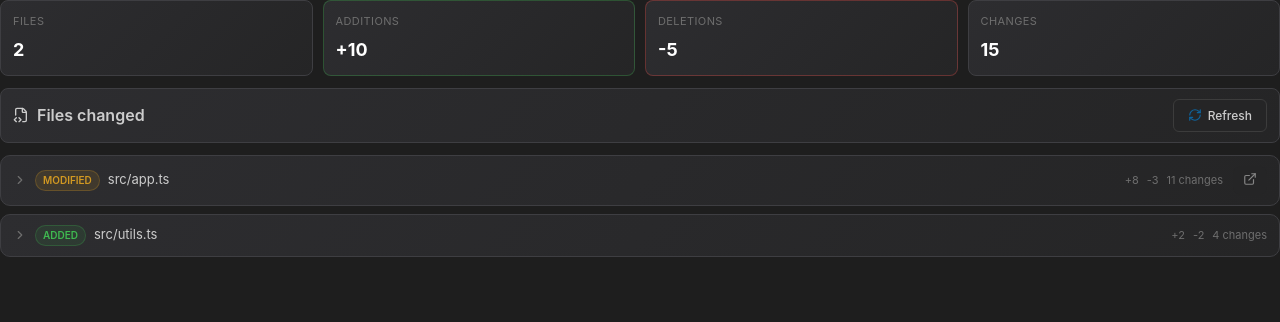
PRFilesChangedPanel › shows refresh indicator when loading with existing data
The width and height of the screenshot is (1280, 322).
expect the text "src/app.ts" is shown: met, box [108, 170, 169, 190]
# Click refresh to trigger loading with existing data
Click the button "Refresh": (1220, 115) [1173, 98, 1267, 132]
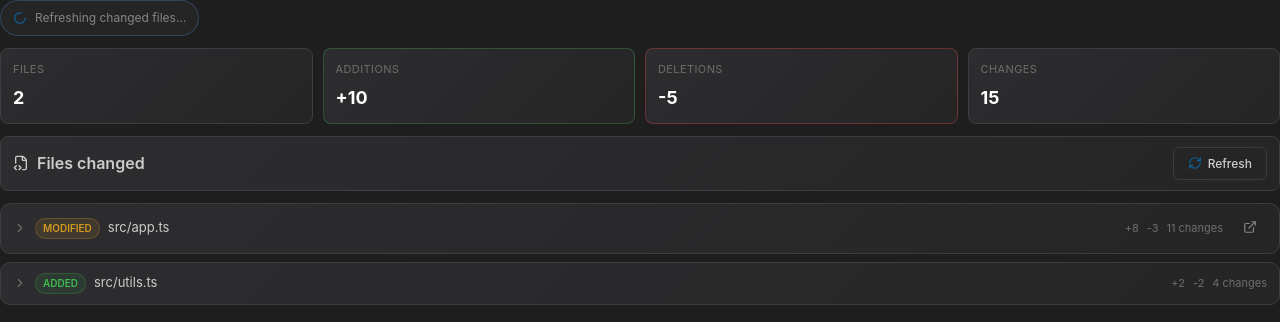
expect the text "Refreshing changed files…" is shown: met, box [35, 9, 186, 27]
